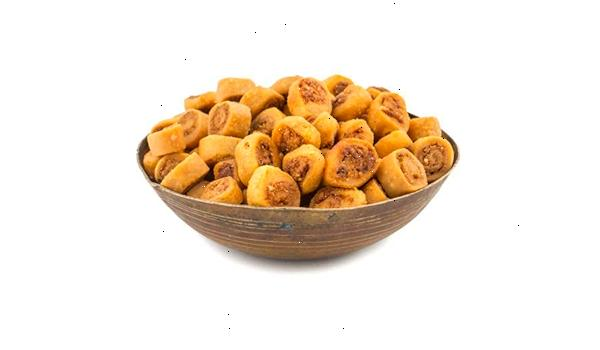bhakarwadi: (140, 74, 453, 208)
